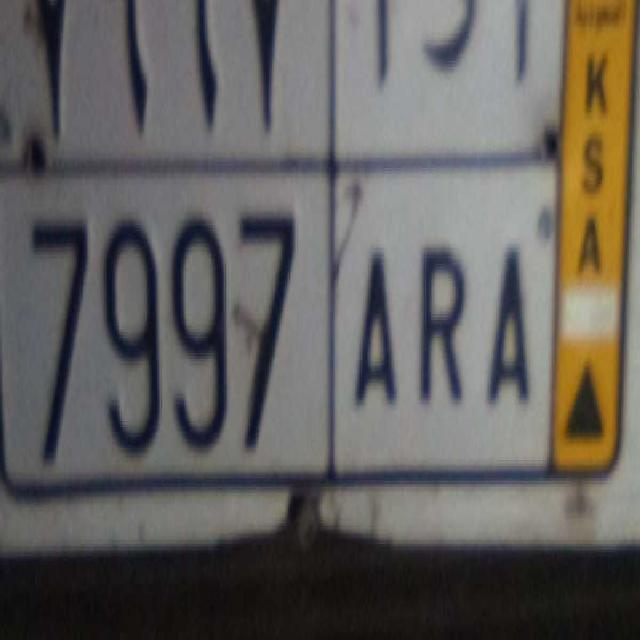license_plate: (0, 152, 558, 497)
